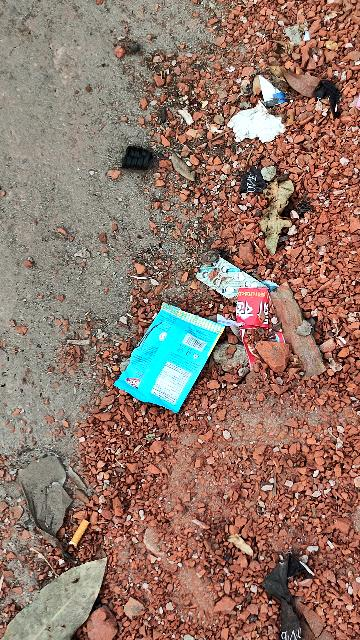packet: (108, 287, 234, 425)
